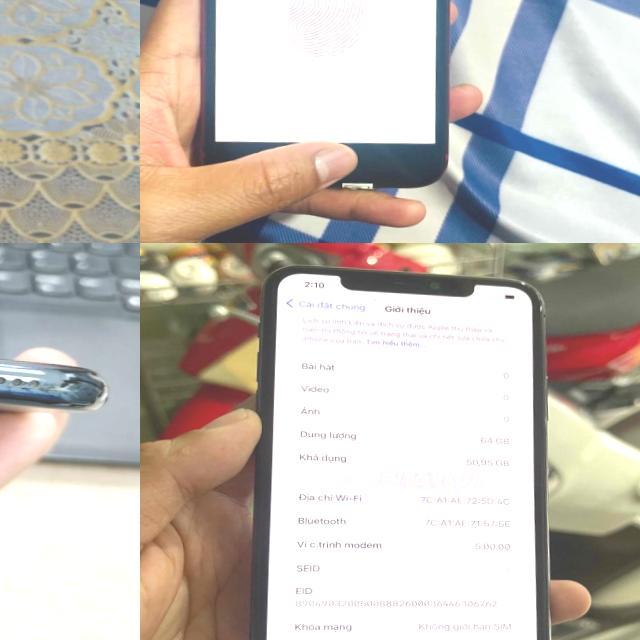gen_11: (241, 252, 578, 640), (0, 304, 122, 449)
gen_7_8: (172, 0, 471, 199)
